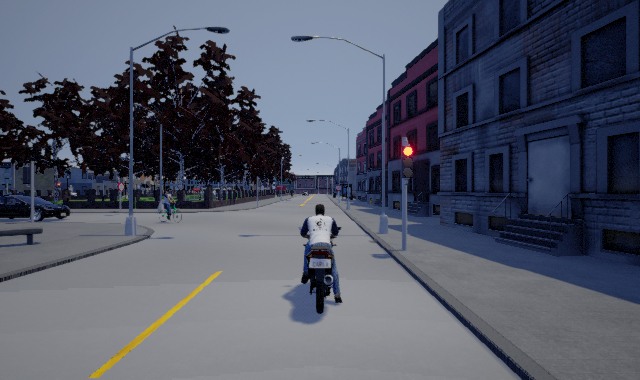bike: (155, 190, 185, 223)
motobike: (295, 202, 348, 318)
traffic_light: (401, 145, 414, 178)
traffic_sign: (117, 181, 125, 192), (335, 184, 342, 191)
vehicle: (1, 192, 73, 222)
